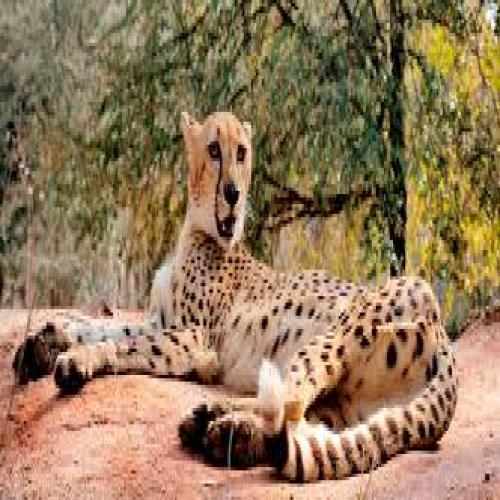cheetah-endangered: (16, 102, 458, 483)
